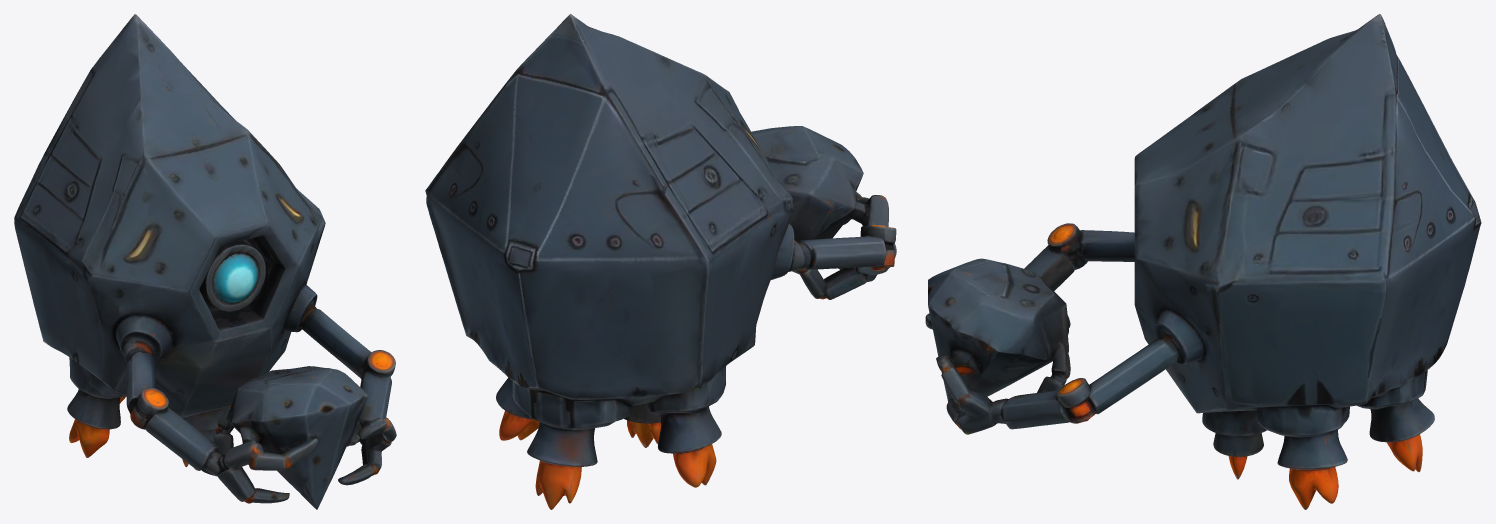
The model's file is model.opt.glb.
The picture shows the model from 3 angles, left to right: view 1: azimuth 30°, elevation 25°; view 2: azimuth 150°, elevation 25°; view 3: azimuth 270°, elevation 25°; orthographic projection. The views are drawn at different scales.
Size of the model in its own units: 1.23 by 1.85 by 2.
1 material, 1 textured.
